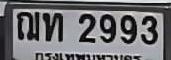2: (78, 12, 95, 42)
3: (140, 15, 157, 44)
9: (99, 13, 115, 42), (120, 14, 136, 43)
A12: (16, 11, 39, 40)
A23: (42, 12, 62, 41)
